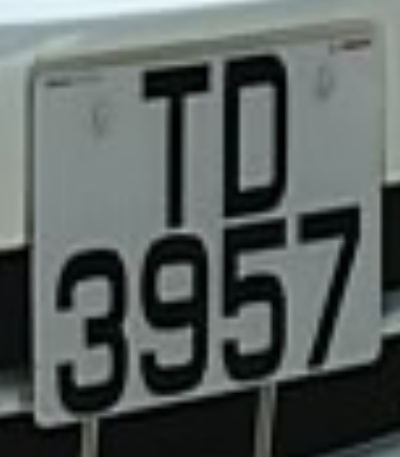3: (42, 225, 139, 420)
5: (206, 213, 293, 387)
7: (291, 193, 366, 377)
9: (131, 227, 220, 405)
D: (210, 39, 303, 224)
T: (126, 40, 222, 232)
